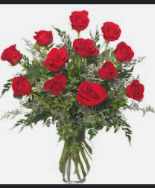RedRose: (71, 81, 112, 106), (109, 42, 140, 65), (119, 82, 148, 102), (66, 9, 92, 31), (72, 36, 100, 55), (45, 48, 68, 71), (30, 25, 57, 44), (99, 19, 124, 39), (0, 47, 26, 65), (45, 77, 66, 98), (9, 77, 35, 93), (98, 61, 119, 80)
